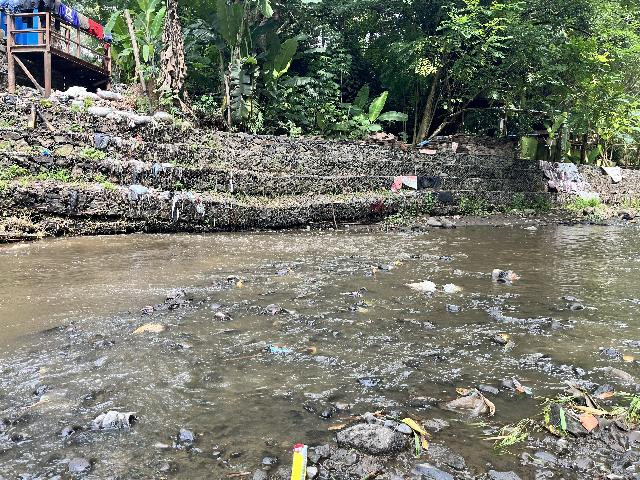Sampah Anorganik: (448, 383, 497, 422), (487, 265, 526, 285), (509, 374, 536, 400), (290, 444, 308, 480), (404, 277, 437, 292), (264, 340, 294, 355), (441, 280, 462, 298), (339, 291, 365, 298), (391, 260, 405, 267), (307, 276, 317, 282)
Sampah Organik: (546, 382, 640, 438), (382, 414, 434, 453), (485, 421, 529, 451), (19, 397, 53, 409), (130, 324, 165, 334), (227, 469, 252, 477), (135, 305, 156, 313), (338, 414, 361, 421), (620, 354, 637, 363), (327, 423, 347, 430), (300, 346, 317, 354), (356, 305, 371, 314), (307, 289, 319, 297), (38, 367, 50, 374), (497, 333, 509, 340), (364, 300, 375, 306), (271, 308, 279, 315), (237, 280, 243, 289), (440, 268, 453, 271), (286, 267, 293, 271), (371, 268, 376, 273)
